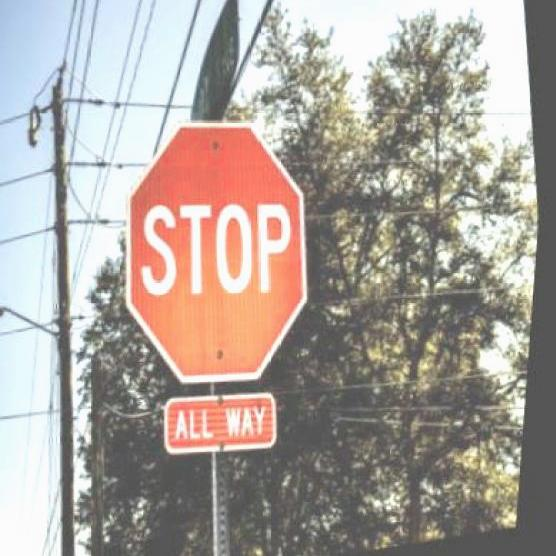stop_sign: (93, 97, 346, 403)
